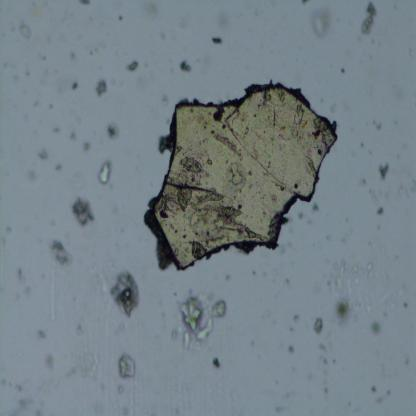Background material: (328, 256, 368, 301), (108, 271, 142, 318), (177, 300, 213, 340), (311, 6, 335, 42), (49, 235, 74, 269), (72, 197, 100, 227), (358, 1, 377, 38), (114, 352, 137, 381), (334, 295, 352, 324), (97, 157, 114, 186), (16, 17, 33, 45), (104, 118, 122, 142), (211, 296, 228, 318), (368, 318, 385, 338), (15, 268, 30, 289), (178, 56, 194, 74), (377, 158, 390, 180), (94, 78, 108, 98), (313, 314, 325, 337), (208, 353, 223, 370), (36, 148, 50, 165), (42, 353, 55, 371), (125, 60, 139, 74), (292, 305, 304, 321), (208, 35, 226, 45), (69, 78, 81, 93), (370, 119, 382, 131), (37, 324, 44, 342), (81, 139, 90, 153), (118, 382, 126, 396), (67, 130, 78, 139), (78, 0, 92, 7), (369, 386, 379, 395), (375, 206, 382, 218), (312, 202, 319, 211), (290, 342, 295, 354), (362, 176, 366, 186)
Fragment: (150, 78, 340, 270)
